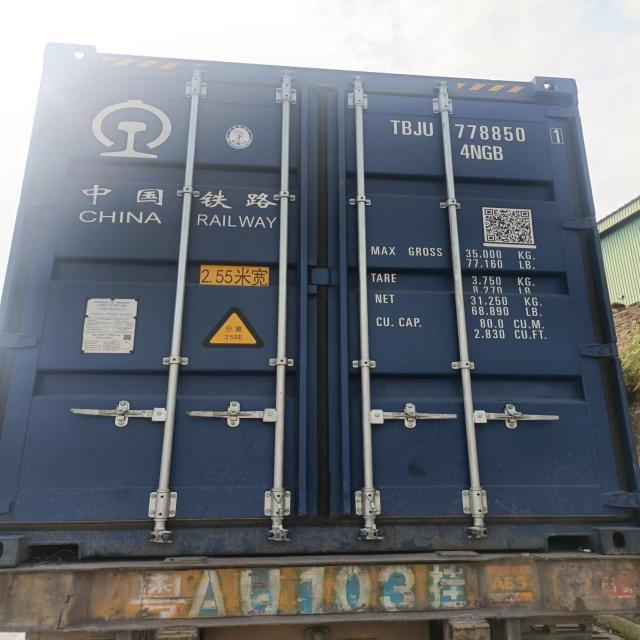ISO: (458, 144, 503, 162)
container_number: (390, 124, 575, 142)
